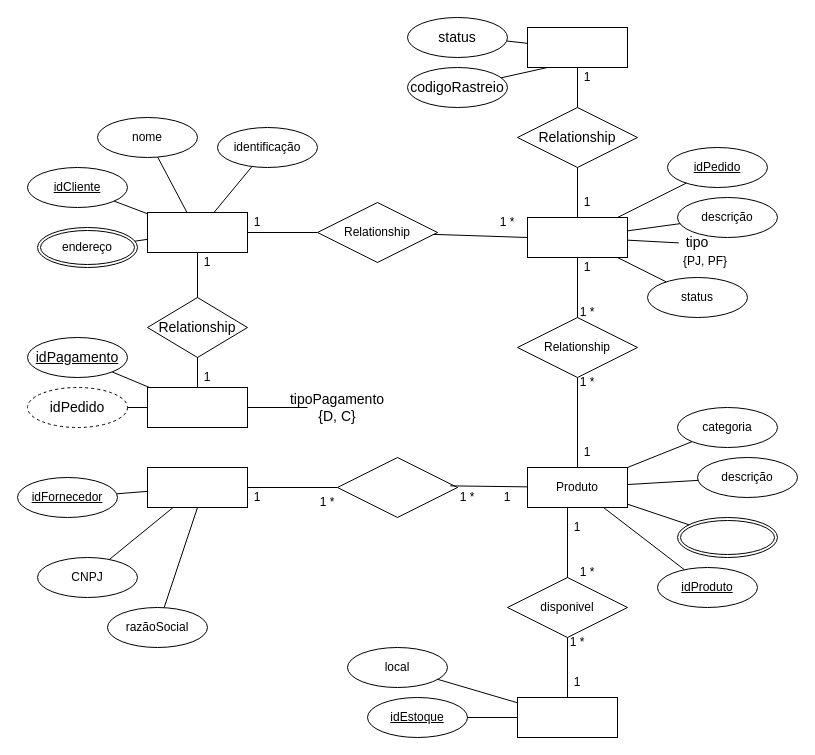
This 815x755 diagram has some shape labels left out. The centre of each missing label's shape, as x and y in pixels:
Cliente: the point at 197,232
Disponibiliza: the point at 397,487
Entrega: the point at 577,47
Estoque: the point at 567,717
Fornecedor: the point at 197,487
Pagamento: the point at 197,407
Pedido: the point at 577,237
valor: the point at 727,537
